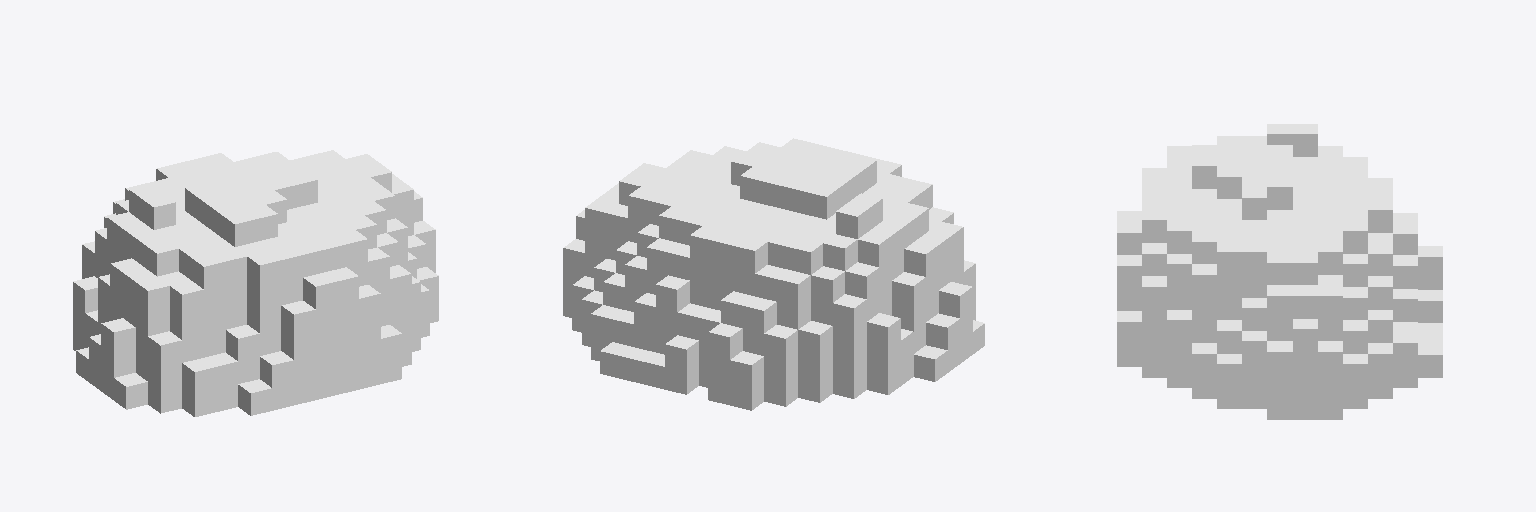
File: Stone3_M.obj
The picture shows the model from 3 angles: view 1: azimuth 30°, elevation 25°; view 2: azimuth 150°, elevation 25°; view 3: azimuth 270°, elevation 25°; orthographic projection.
Visible parts, largest first — view 1: Stone3_M; view 2: Stone3_M; view 3: Stone3_M.
Boxes of the visible parts, x1=… form: Stone3_M: x1=73, y1=150, x2=438, y2=416; Stone3_M: x1=563, y1=138, x2=984, y2=410; Stone3_M: x1=1117, y1=124, x2=1442, y2=419.
Bounding box in the file's own units: 1.6 × 0.7 × 1.3.